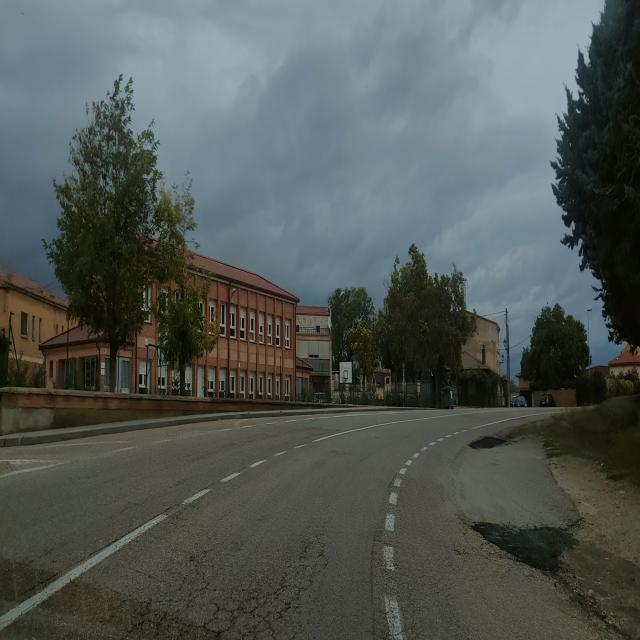Poth-hole: (113, 551, 331, 640)
